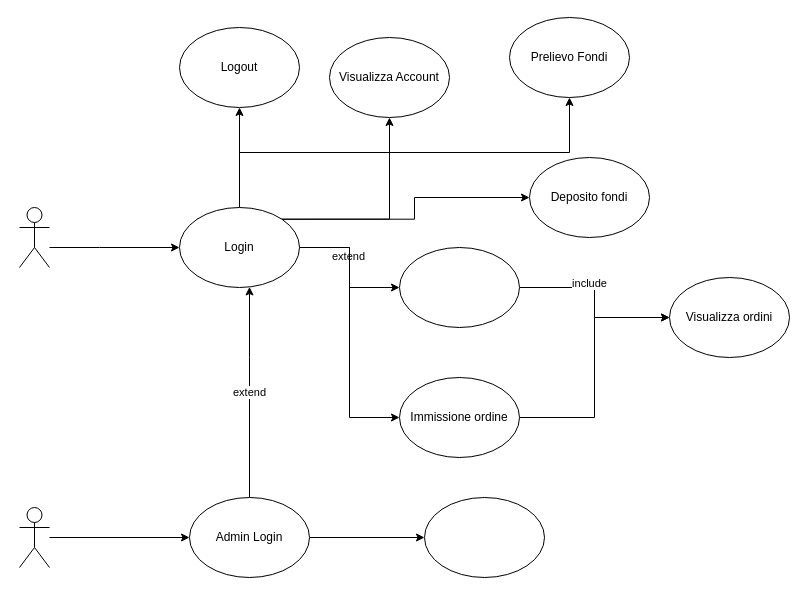
Some shapes in this 807 by 606 pixel diagram are drawn without their labels. The shapes that lost their labels are listed below. From the top down, each one's centre as x and y in pixels, then its label:
(x=34, y=237): User
(x=459, y=287): Cancellazione Ordine
(x=34, y=537): Admin
(x=484, y=537): Visualizza Exchange e utenti
